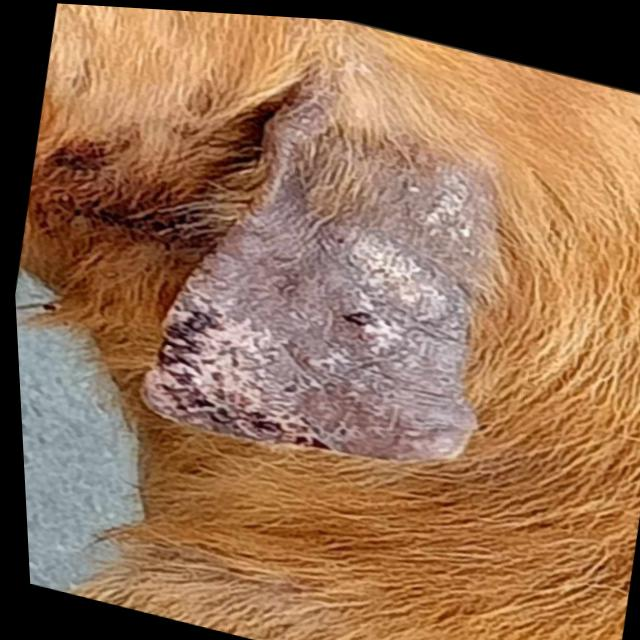demodicosis: (130, 62, 515, 501)
